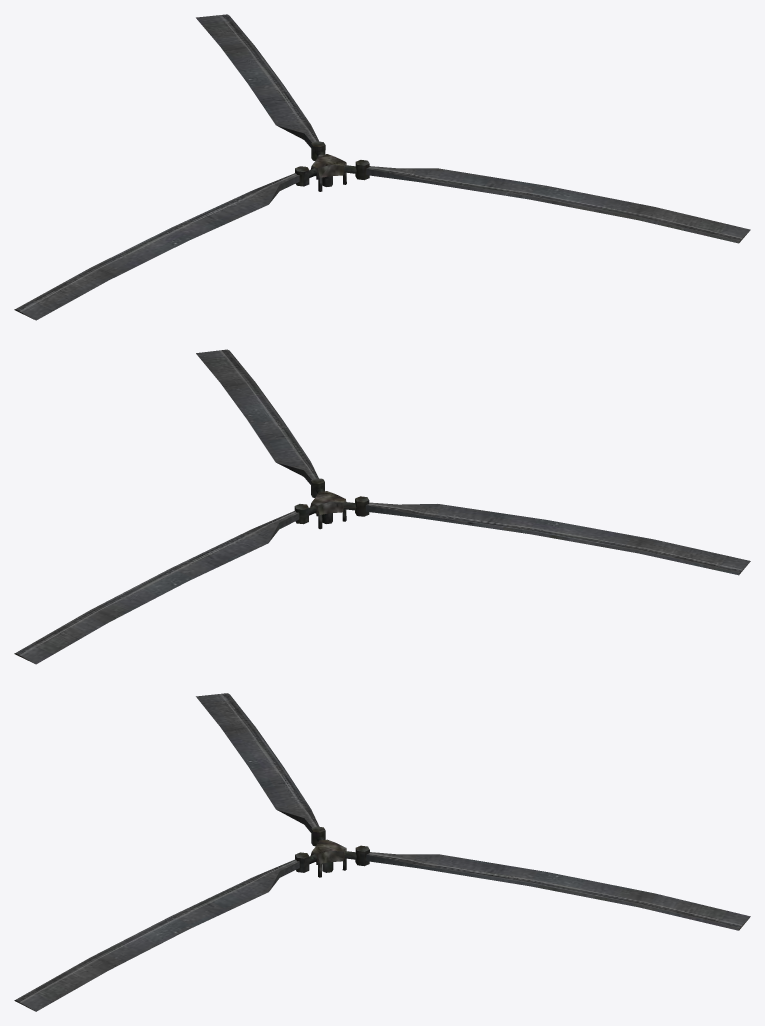
File: heli_ch47_rotor_r.glb
3 renders of one model, top to bottom at view 1: azimuth 30°, elevation 25°; view 2: azimuth 150°, elevation 25°; view 3: azimuth 270°, elevation 25°, orthographic.
Visible parts, largest first — view 1: heli_ch47_rotor_r; view 2: heli_ch47_rotor_r; view 3: heli_ch47_rotor_r.
Part boxes in pixels (x1,y1,x2,y2): heli_ch47_rotor_r: (14, 14, 750, 320); heli_ch47_rotor_r: (14, 349, 750, 664); heli_ch47_rotor_r: (14, 693, 750, 1011).
Bounding box in the file's own units: 15.01 × 0.766 × 14.97.
1 material, 1 textured.
